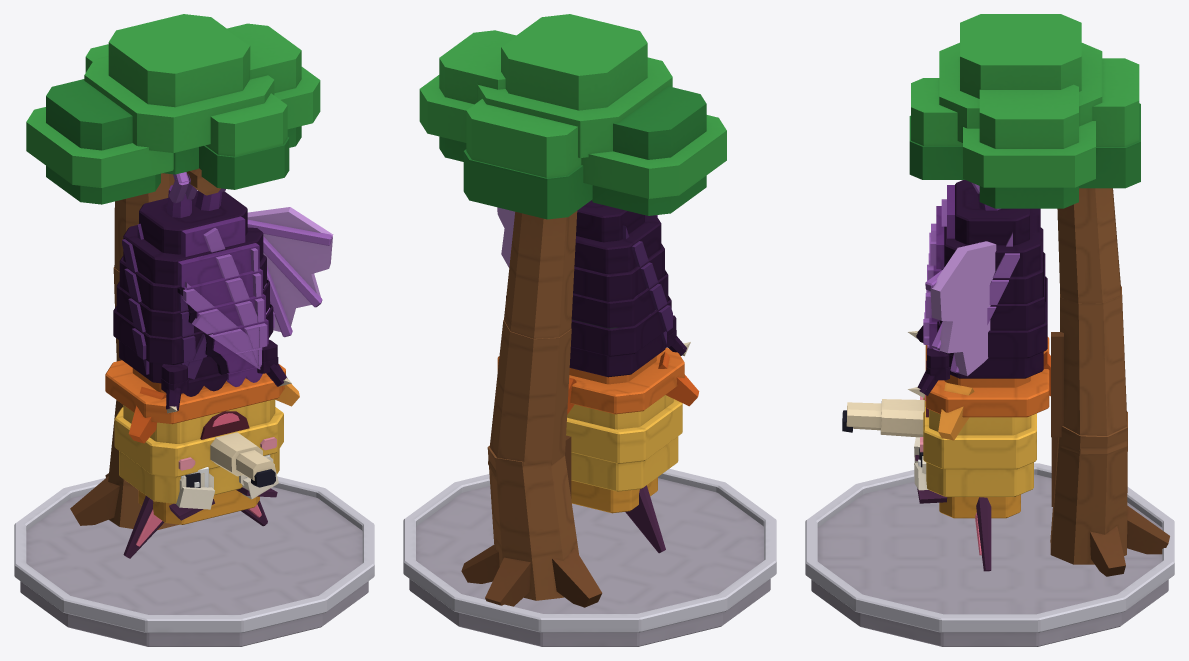
Rendered from CocoonFruitBat.fbx.
3 renders of one model, left to right at view 1: azimuth 30°, elevation 25°; view 2: azimuth 150°, elevation 25°; view 3: azimuth 270°, elevation 25°, orthographic. The views are drawn at different scales.
Parts seen in each view (by area): view 1: Art_CocoonFruitBat_Haze, Art_CocoonFruitBat_Stand, Art_CocoonFruitBat_Body, Art_CocoonFruitBat_Head, Art_CocoonFruitBat_WingOpen, Art_CocoonFruitBat_EarR, Art_CocoonFruitBat_ThumbL, Art_CocoonFruitBat_ThumbR; view 2: Art_CocoonFruitBat_Haze, Art_CocoonFruitBat_Stand, Art_CocoonFruitBat_Body, Art_CocoonFruitBat_Head, Art_CocoonFruitBat_EarR, Art_CocoonFruitBat_WingOpen; view 3: Art_CocoonFruitBat_Haze, Art_CocoonFruitBat_Stand, Art_CocoonFruitBat_Body, Art_CocoonFruitBat_Head, Art_CocoonFruitBat_WingOpen, Art_CocoonFruitBat_EarL, Art_CocoonFruitBat_ThumbR.
Part boxes in pixels (left/top/right/bottom): Art_CocoonFruitBat_Haze: left=26, top=14, right=320, bottom=529; Art_CocoonFruitBat_Stand: left=14, top=476, right=374, bottom=646; Art_CocoonFruitBat_Body: left=105, top=172, right=299, bottom=443; Art_CocoonFruitBat_Head: left=114, top=399, right=283, bottom=524; Art_CocoonFruitBat_WingOpen: left=247, top=207, right=333, bottom=337; Art_CocoonFruitBat_EarR: left=123, top=495, right=164, bottom=558; Art_CocoonFruitBat_ThumbL: left=161, top=364, right=188, bottom=413; Art_CocoonFruitBat_ThumbR: left=257, top=339, right=291, bottom=386; Art_CocoonFruitBat_Haze: left=419, top=14, right=726, bottom=607; Art_CocoonFruitBat_Stand: left=403, top=468, right=776, bottom=646; Art_CocoonFruitBat_Body: left=497, top=200, right=699, bottom=414; Art_CocoonFruitBat_Head: left=566, top=395, right=682, bottom=513; Art_CocoonFruitBat_EarR: left=625, top=485, right=665, bottom=553; Art_CocoonFruitBat_WingOpen: left=497, top=207, right=514, bottom=267; Art_CocoonFruitBat_Haze: left=909, top=14, right=1169, bottom=576; Art_CocoonFruitBat_Stand: left=805, top=463, right=1174, bottom=646; Art_CocoonFruitBat_Body: left=923, top=180, right=1050, bottom=440; Art_CocoonFruitBat_Head: left=842, top=395, right=1036, bottom=518; Art_CocoonFruitBat_WingOpen: left=925, top=241, right=996, bottom=376; Art_CocoonFruitBat_EarL: left=975, top=497, right=991, bottom=571; Art_CocoonFruitBat_ThumbR: left=908, top=348, right=949, bottom=397.
Bounding box in the file's own units: 2.99 × 4.76 × 2.99.
